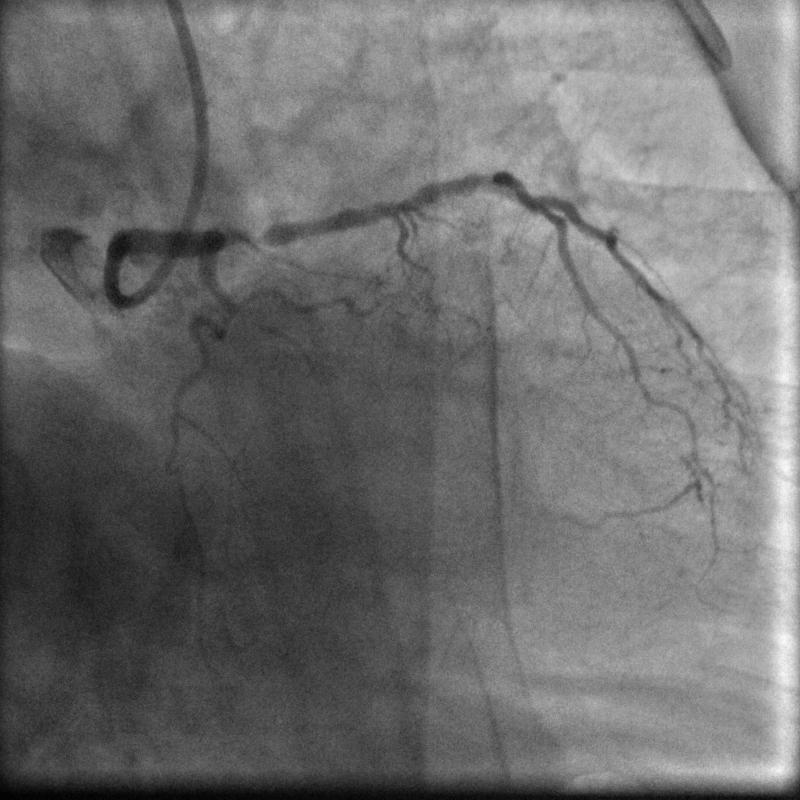Stenosis: (222, 222, 278, 253)
